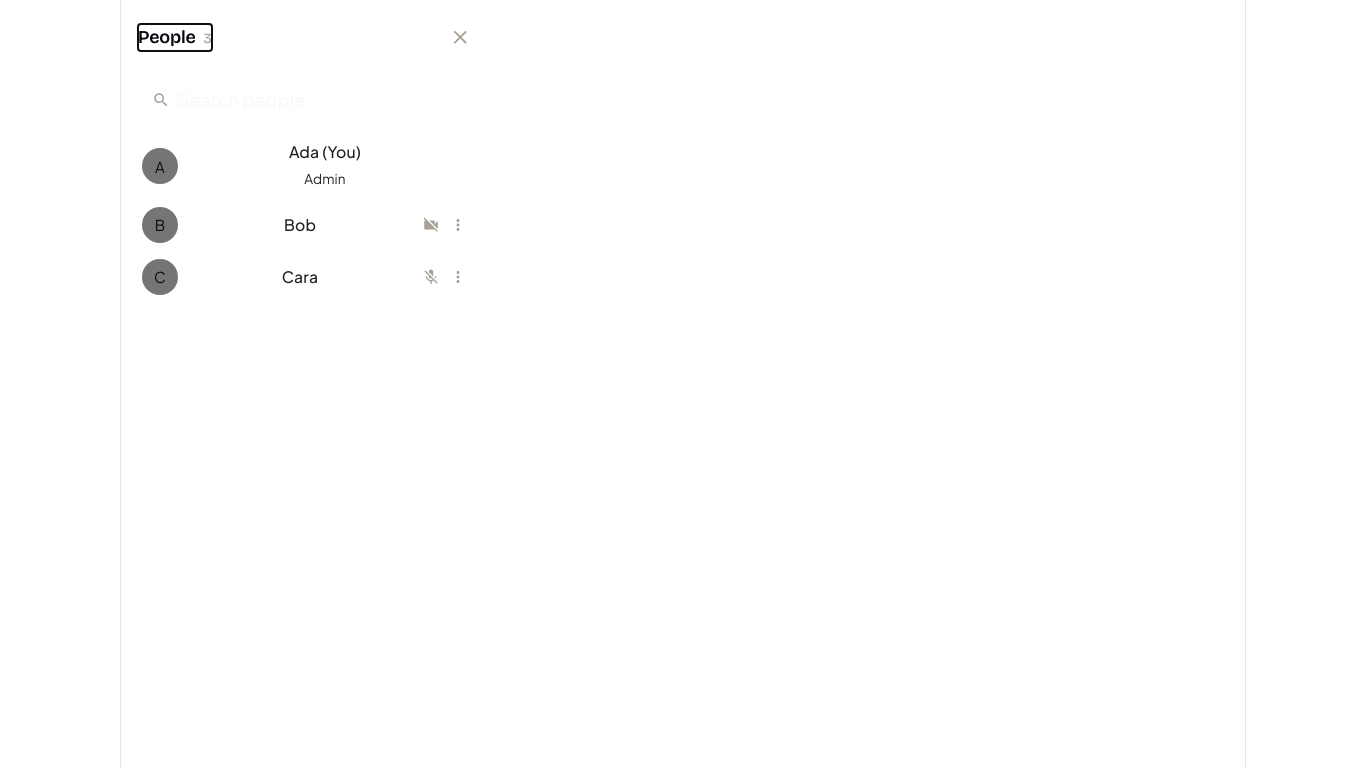
Test: PeoplePanel › non-host view › does not expose host moderation actions to a non-host
Click the button named "More actions for Bob": point(458, 225) [444, 211, 472, 239]
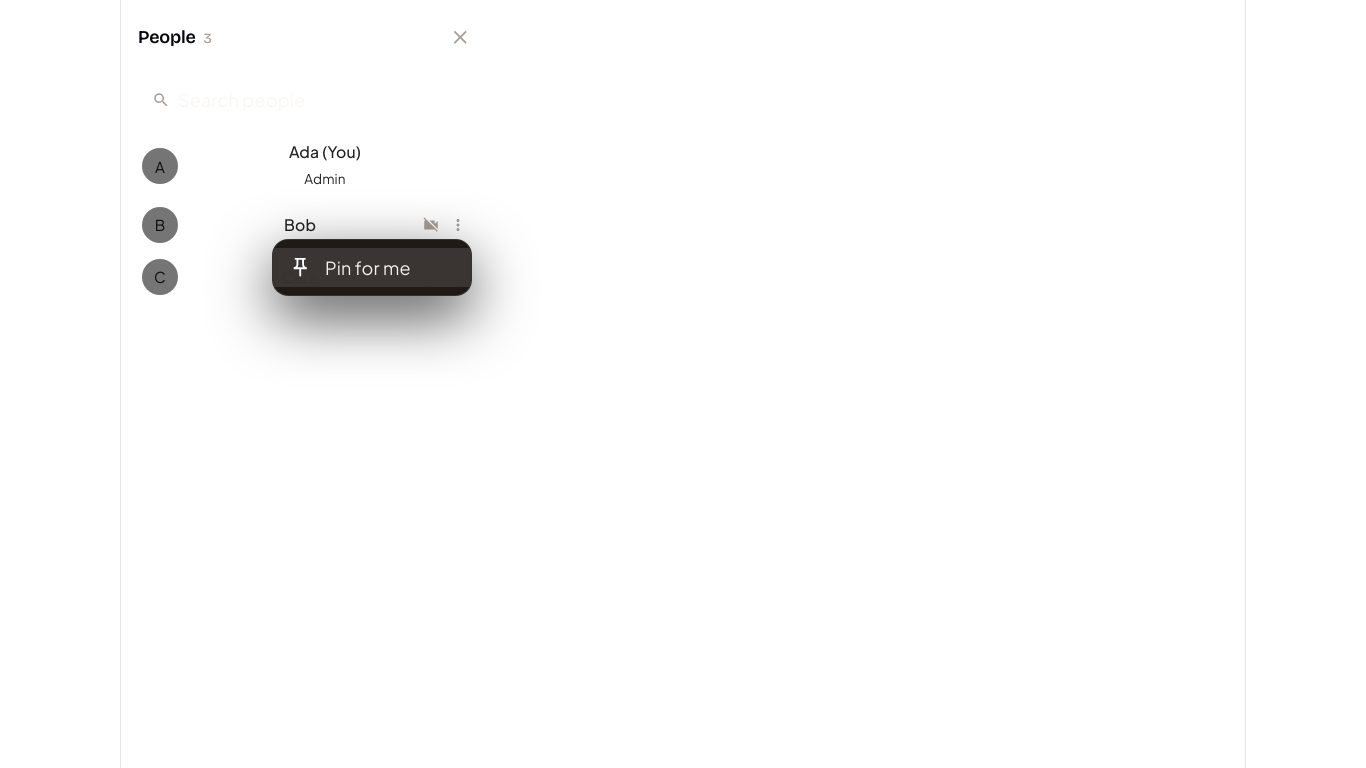
Expected: the text "Pin for me" is shown, [325, 256, 411, 279]
